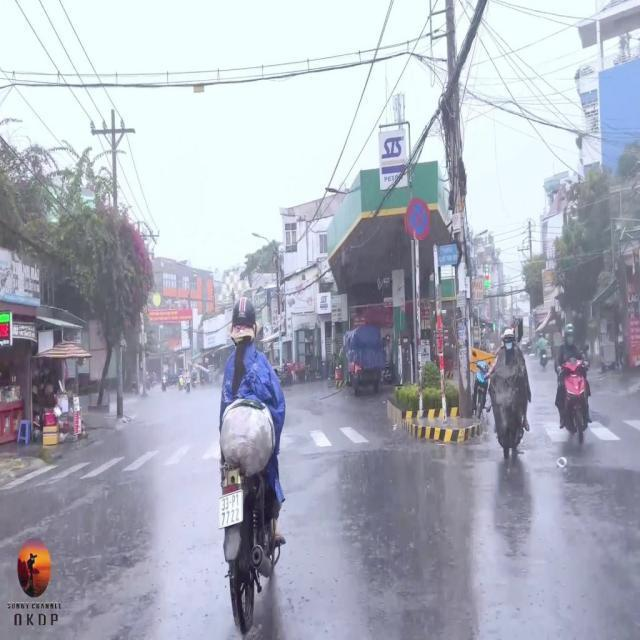130-cam-dung-va-do-xe: (407, 198, 430, 240)
